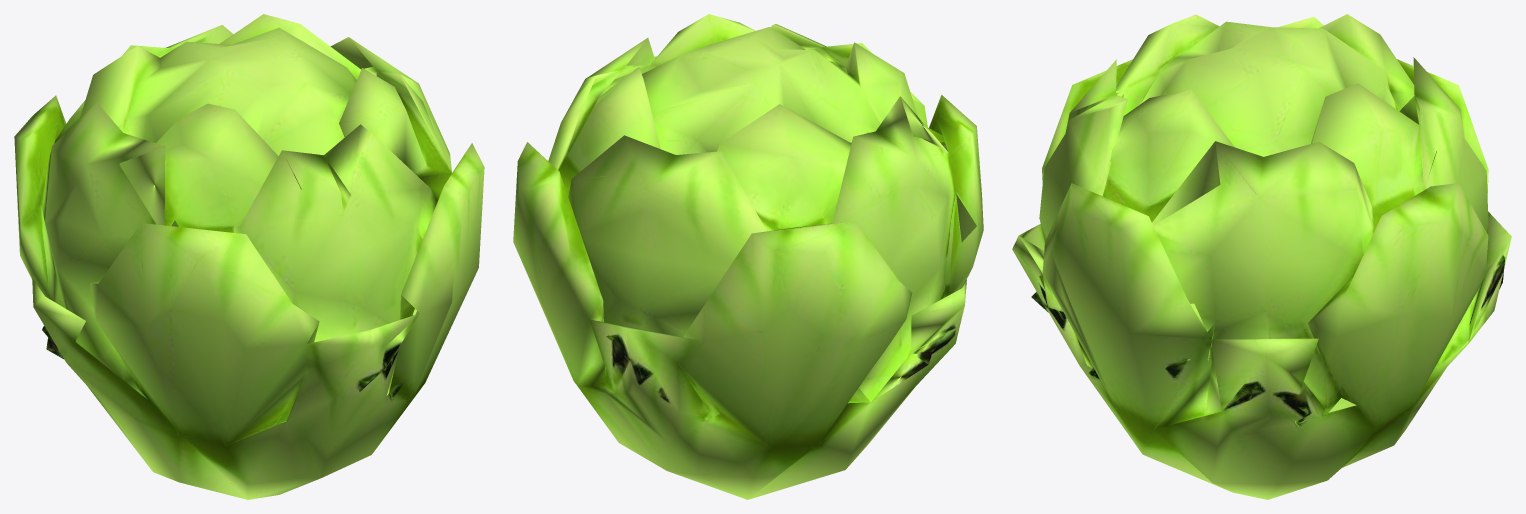
Rendered from lettuce.glb.
3 renders of one model, left to right at view 1: azimuth 30°, elevation 25°; view 2: azimuth 150°, elevation 25°; view 3: azimuth 270°, elevation 25°, orthographic.
Bounding box in the file's own units: 1.88 × 1.87 × 1.85.
1 material, 1 textured.
